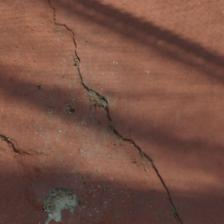Crack: (37, 0, 146, 99), (24, 27, 224, 62)
